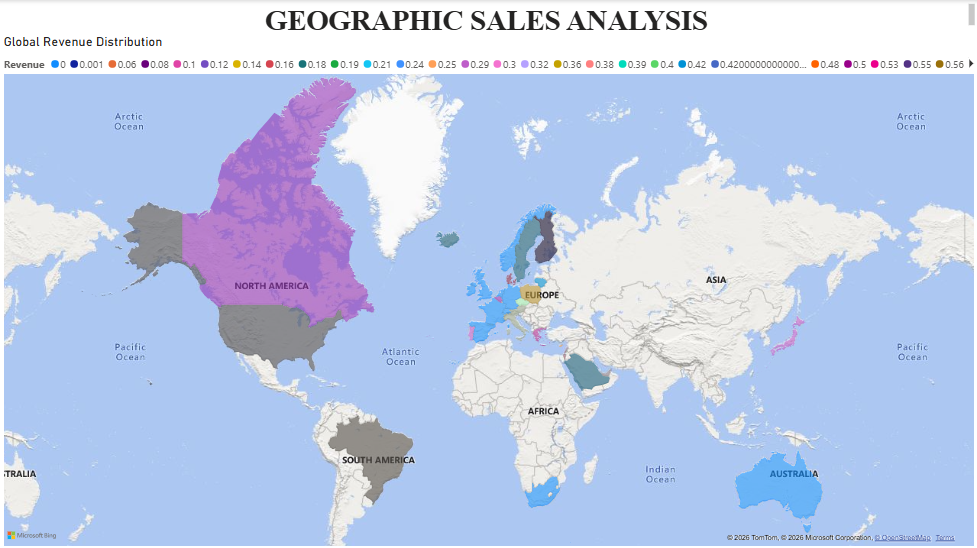

The dashboard page shown, as its layout file describes it:
{"tool":"powerbi","page":{"name":"Page 2","canvas":[1280,720],"ordinal":1},"visuals":[{"type":"filledMap","title":"Global Revenue Distribution","fields":{"Category":["cleaned_ecommerce_data.Country/Region"],"Series":["cleaned_ecommerce_data.Revenue"]},"box":[0,44.9,1279.6,675.5],"z":0},{"type":"textbox","box":[0,0,1280.7,44.6],"z":1000}]}

Visuals, with their boxes in screenshot pixels (x1, y1, x2, y2), scaled from the page's 1280x720 canvas onto the 977x548 screenshot:
"Global Revenue Distribution" filledMap: 0,34,976,547
textbox: 0,0,976,34
